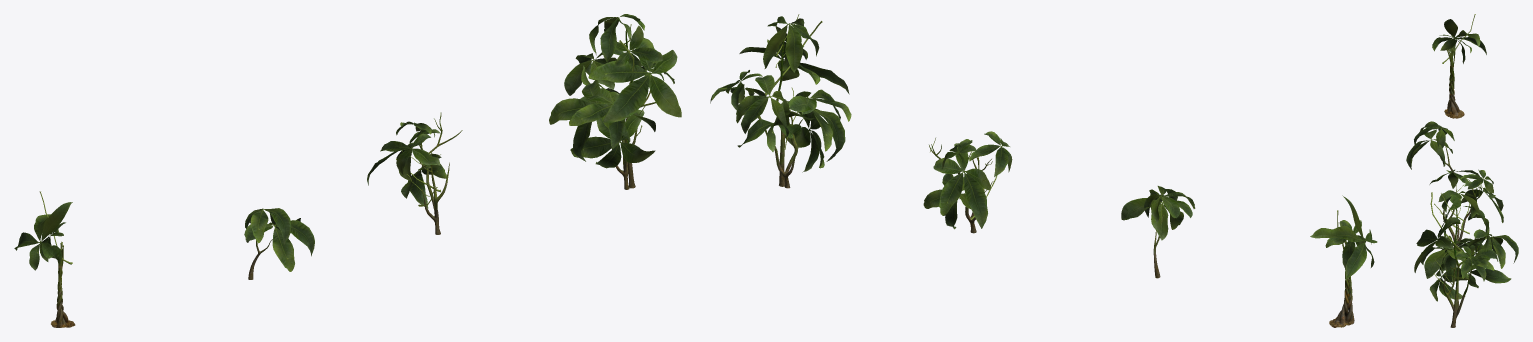
Rendered from pachira_aquatica_01.glb.
3 views of the same model, side by side, from view 1: azimuth 30°, elevation 25°; view 2: azimuth 150°, elevation 25°; view 3: azimuth 270°, elevation 25° (orthographic). The views are drawn at different scales.
Visible parts, largest first — view 1: pachira_aquatica_01_leaves_d, pachira_aquatica_01_leaves_c, pachira_aquatica_01_leaves_b, pachira_aquatica_01_leaves_a, pachira_aquatica_01_bark_c, pachira_aquatica_01_bark_a, pachira_aquatica_01_bark_d; view 2: pachira_aquatica_01_leaves_d, pachira_aquatica_01_leaves_c, pachira_aquatica_01_leaves_b, pachira_aquatica_01_leaves_a, pachira_aquatica_01_bark_d, pachira_aquatica_01_bark_a; view 3: pachira_aquatica_01_leaves_d, pachira_aquatica_01_leaves_c, pachira_aquatica_01_leaves_b, pachira_aquatica_01_leaves_a, pachira_aquatica_01_bark_d, pachira_aquatica_01_bark_a, pachira_aquatica_01_bark_c.
Part boxes in pixels (<box>): pachira_aquatica_01_leaves_d: <box>549,14,681,168</box>; pachira_aquatica_01_leaves_c: <box>367,112,446,208</box>; pachira_aquatica_01_leaves_b: <box>244,208,314,271</box>; pachira_aquatica_01_leaves_a: <box>14,191,72,270</box>; pachira_aquatica_01_bark_c: <box>419,116,462,234</box>; pachira_aquatica_01_bark_a: <box>51,241,75,327</box>; pachira_aquatica_01_bark_d: <box>599,29,655,189</box>; pachira_aquatica_01_leaves_d: <box>710,14,851,172</box>; pachira_aquatica_01_leaves_c: <box>923,131,1012,229</box>; pachira_aquatica_01_leaves_b: <box>1121,186,1195,240</box>; pachira_aquatica_01_leaves_a: <box>1310,195,1377,280</box>; pachira_aquatica_01_bark_d: <box>744,40,803,188</box>; pachira_aquatica_01_bark_a: <box>1329,241,1354,327</box>; pachira_aquatica_01_leaves_d: <box>1414,190,1518,301</box>; pachira_aquatica_01_leaves_c: <box>1429,169,1503,242</box>; pachira_aquatica_01_leaves_b: <box>1406,121,1454,169</box>; pachira_aquatica_01_leaves_a: <box>1432,14,1486,63</box>; pachira_aquatica_01_bark_d: <box>1443,208,1479,327</box>; pachira_aquatica_01_bark_a: <box>1444,47,1464,118</box>; pachira_aquatica_01_bark_c: <box>1443,179,1484,248</box>.
Size of the model in its own units: 6.93 by 1.74 by 1.34.
2 materials, 2 textured.
